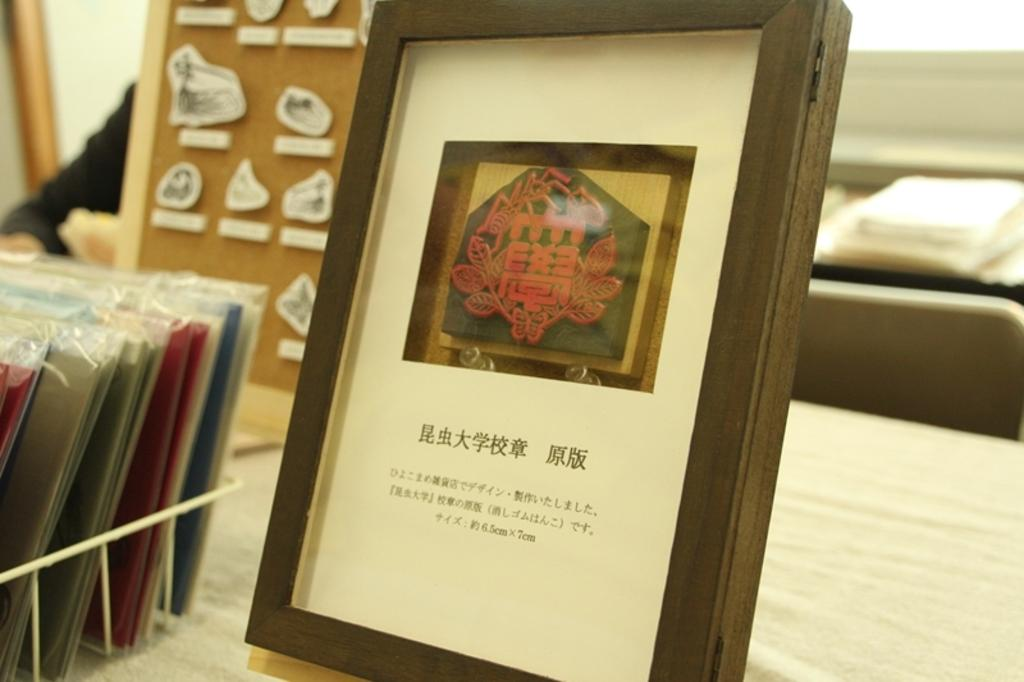Luggage-and-bags: (1, 246, 268, 679)
